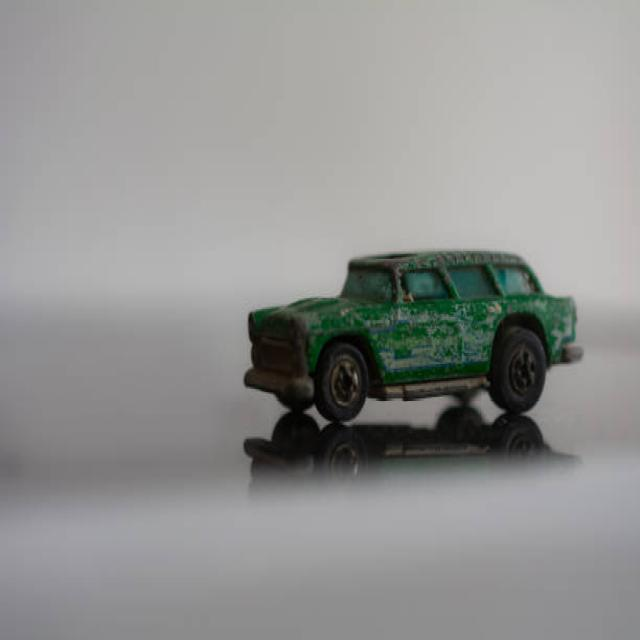Car: (242, 246, 584, 422)
